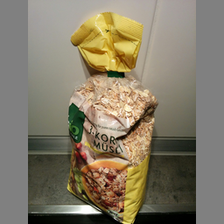cereal: (67, 71, 159, 224)
